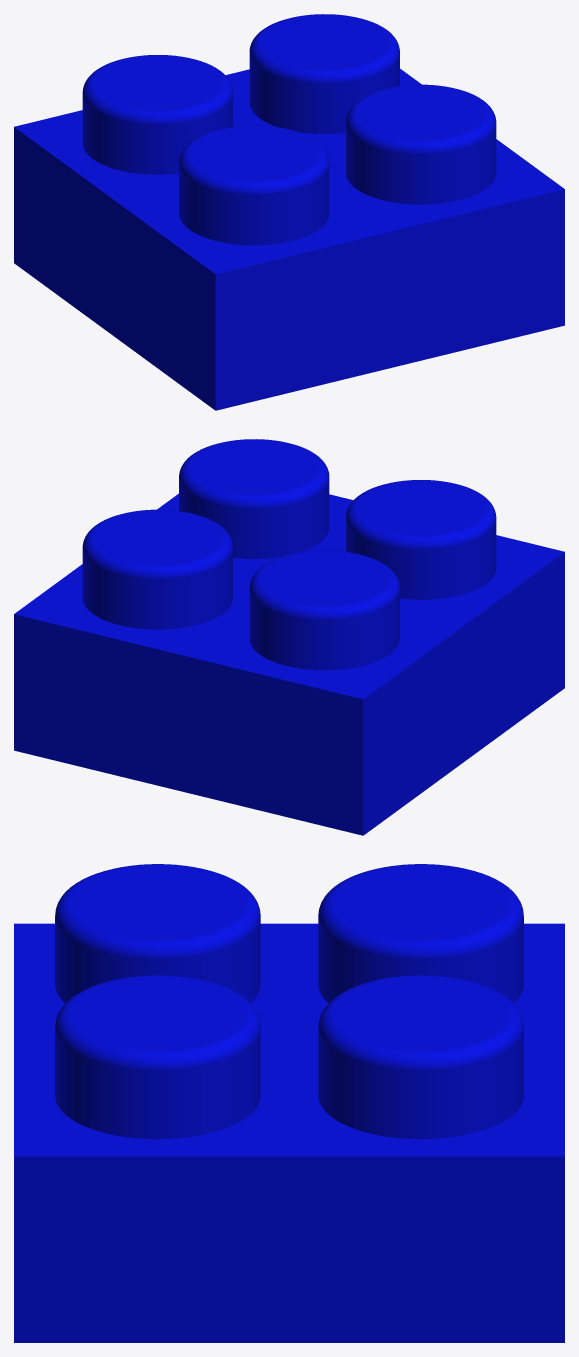
File: Square.gltf
3 views of the same model, one above another, from view 1: azimuth 30°, elevation 25°; view 2: azimuth 150°, elevation 25°; view 3: azimuth 270°, elevation 25° (orthographic). The views are drawn at different scales.
Visible parts, largest first — view 1: Box 1, Box 2, Cylinder 5, Cylinder 4, Box, Cylinder 2, Cylinder 3, Box 3, Box 4; view 2: Box 4, Box 2, Box, Cylinder 2, Cylinder 3, Cylinder 5, Cylinder 4, Box 3, Box 1; view 3: Box 3, Cylinder 4, Cylinder 3, Cylinder 5, Cylinder 2, Box, Box 1, Box 4, Box 2.
Part boxes in pixels (<box>): Box 1: <box>201,179,564,410</box>; Box 2: <box>14,123,241,410</box>; Cylinder 5: <box>179,125,329,245</box>; Cylinder 4: <box>346,84,496,204</box>; Box: <box>25,70,536,298</box>; Cylinder 2: <box>82,55,232,174</box>; Cylinder 3: <box>249,14,399,134</box>; Box 3: <box>400,68,564,328</box>; Box 4: <box>14,69,249,271</box>; Box 4: <box>14,603,378,834</box>; Box 2: <box>337,546,564,835</box>; Box: <box>24,495,553,723</box>; Cylinder 2: <box>249,550,399,670</box>; Cylinder 3: <box>82,509,232,629</box>; Cylinder 5: <box>346,480,496,599</box>; Cylinder 4: <box>179,439,329,559</box>; Box 3: <box>14,493,178,756</box>; Box 1: <box>329,494,564,698</box>; Box 3: <box>14,1139,564,1342</box>; Cylinder 4: <box>55,975,260,1139</box>; Cylinder 3: <box>318,975,523,1139</box>; Cylinder 5: <box>55,864,260,1003</box>; Cylinder 2: <box>318,864,523,1003</box>; Box: <box>14,931,563,1139</box>; Box 1: <box>14,923,54,1342</box>; Box 4: <box>524,924,564,1342</box>; Box 2: <box>14,923,564,940</box>.
Bounding box in the file's own units: 0.067 × 0.036 × 0.067.
